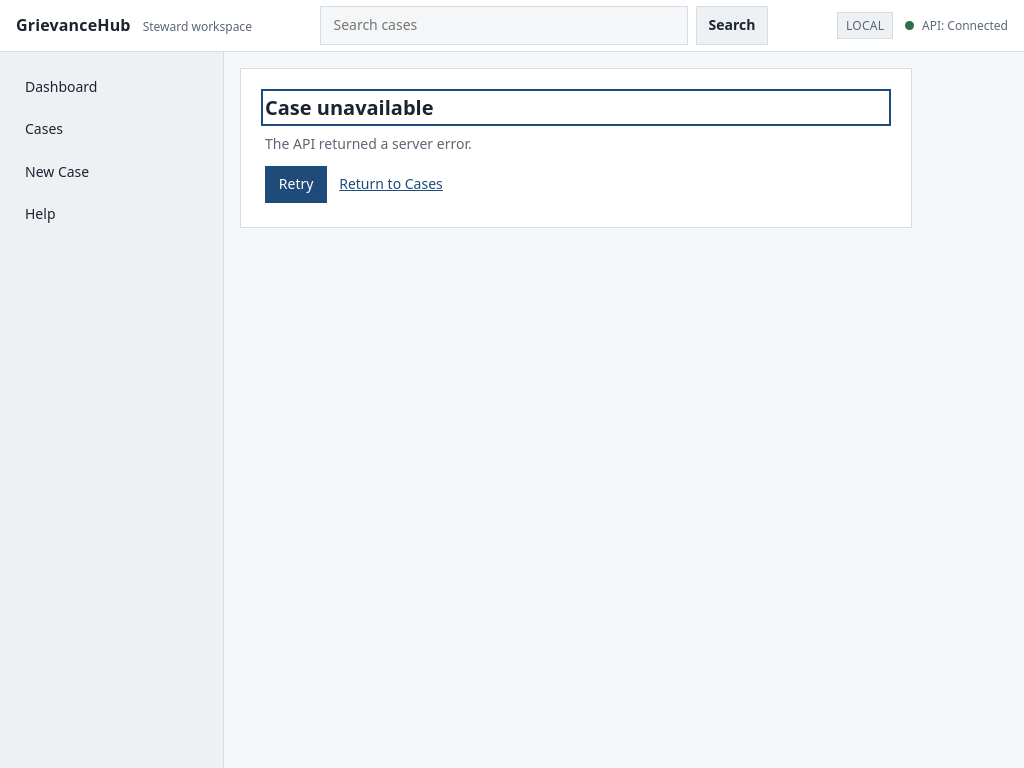
Test: W6 M2 Create Case and Workspace Restoration › shows API error with Retry for workspace failures
Expected: the message "The API returned a server error." is shown, [265, 134, 472, 153]
Step 1. Click the button "Retry" → (296, 185), box [265, 166, 327, 203]
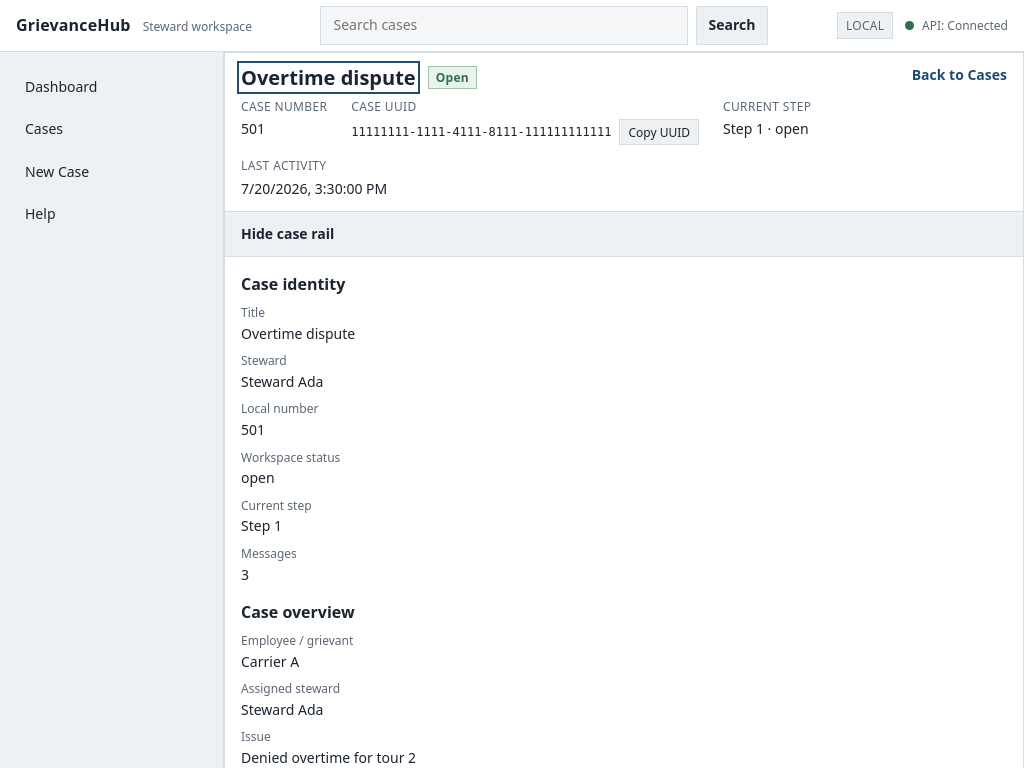
Now the heading "Overtime dispute" is shown, box [241, 65, 416, 90]
